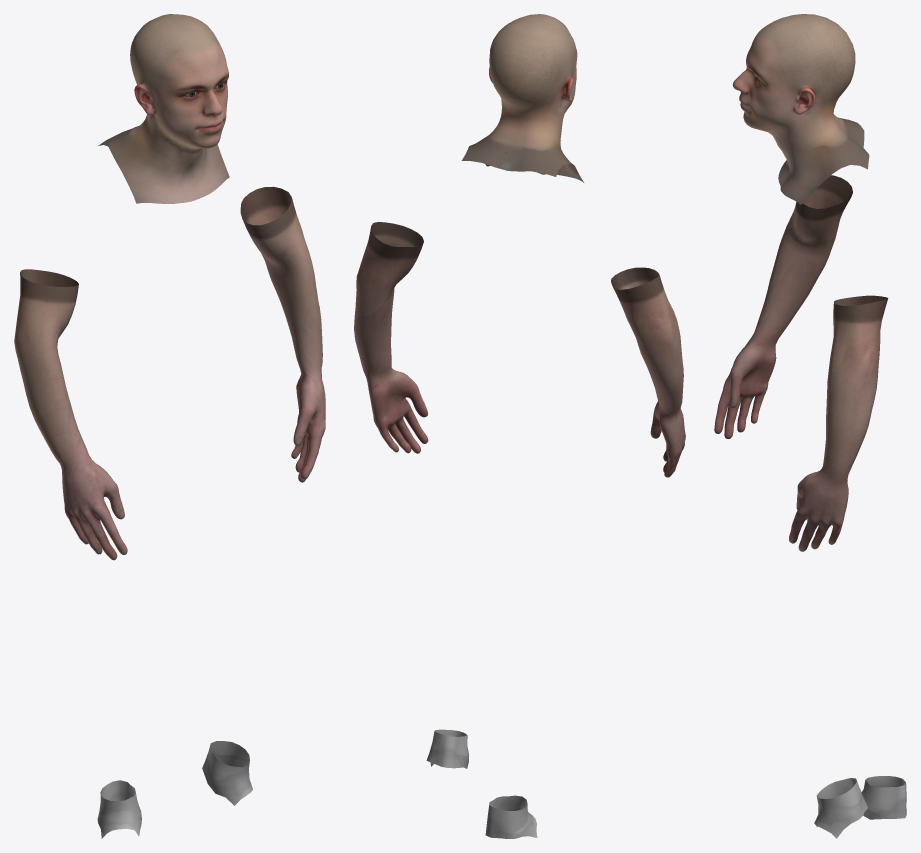
The model's file is body.obj.
3 renders of one model, left to right at view 1: azimuth 30°, elevation 25°; view 2: azimuth 150°, elevation 25°; view 3: azimuth 270°, elevation 25°, orthographic. The views are drawn at different scales.
Parts seen in each view (by area): view 1: Ch01_Body; view 2: Ch01_Body; view 3: Ch01_Body.
Boxes of the visible parts, left/top/right/bottom form: Ch01_Body: left=14, top=14, right=325, bottom=838; Ch01_Body: left=354, top=14, right=685, bottom=838; Ch01_Body: left=714, top=14, right=906, bottom=838.
Size of the model in its own units: 0.6704 by 1.68 by 0.362.
